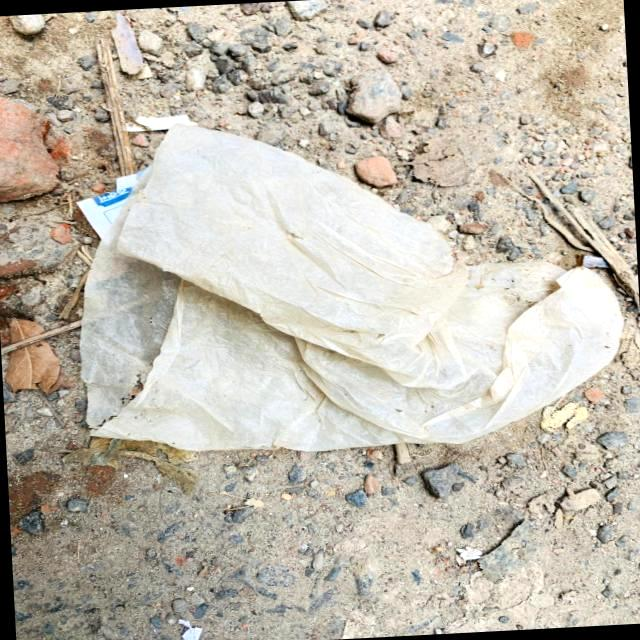polythene: (57, 191, 539, 472)
